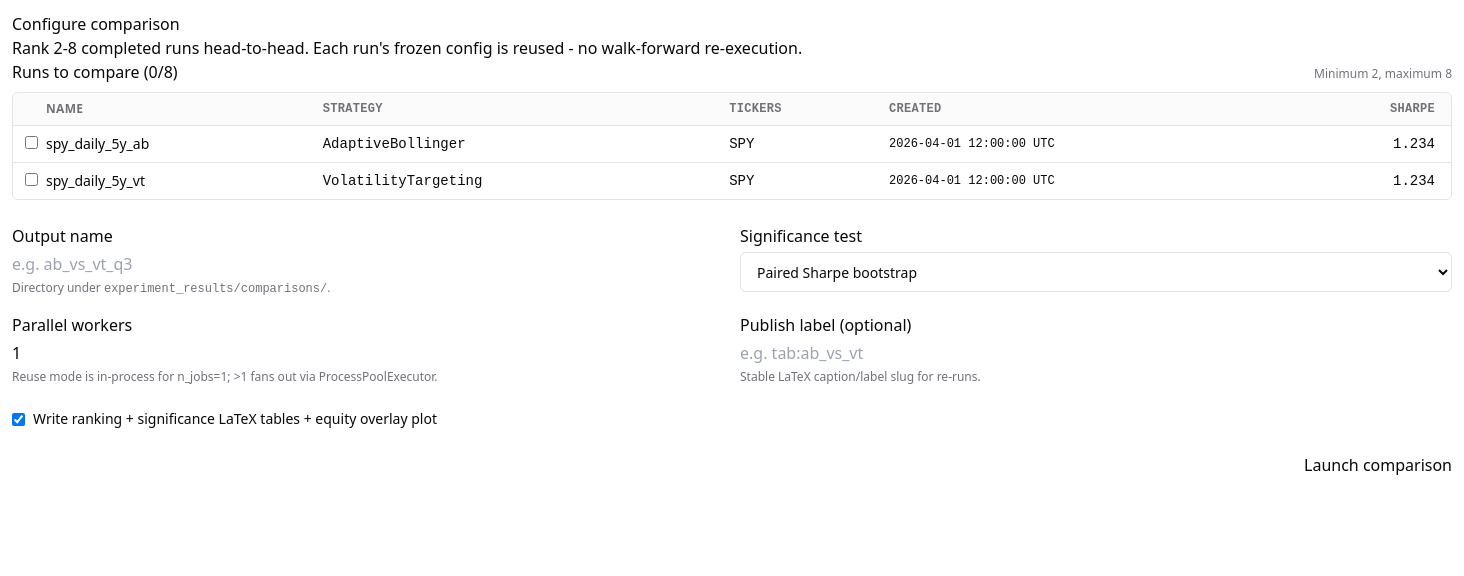
Test: ConfigureComparePage › surfaces backend 422 errors inline (e.g. ghost run id)
This screenshot has width=1464, height=576.
Check: the text "spy_daily_5y_ab" is shown, box top-left (45, 126), bottom-right (322, 162)
Click the checkbox named "Select spy_daily_5y_ab": (32, 142) top-left (25, 136), bottom-right (38, 149)
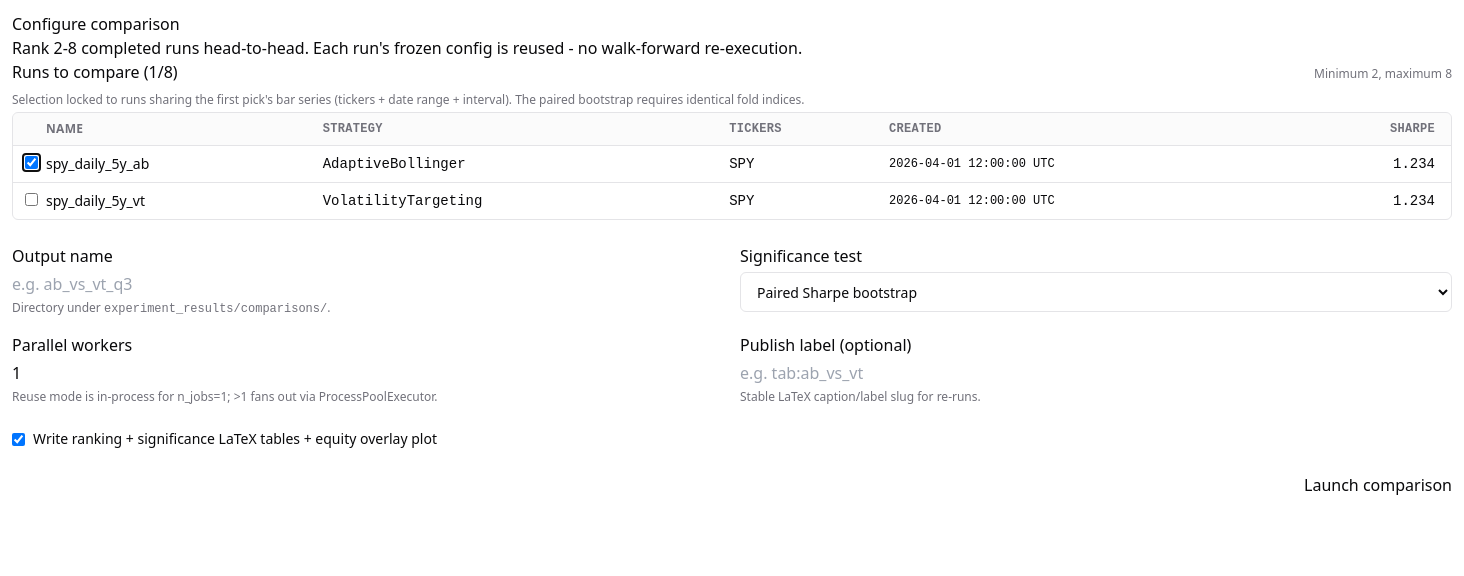
Click the checkbox named "Select spy_daily_5y_vt": (32, 200) top-left (25, 193), bottom-right (38, 206)
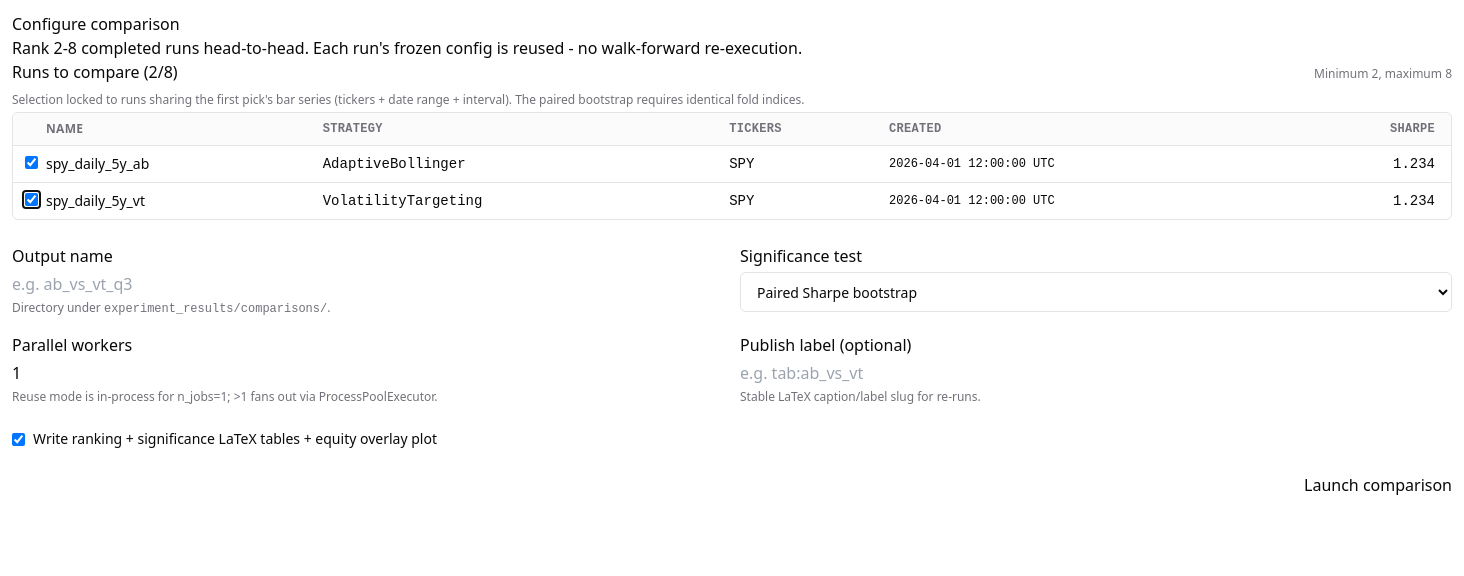
In the field labelled "Output name": (368, 284) top-left (12, 272), bottom-right (724, 296), type "my_compare"
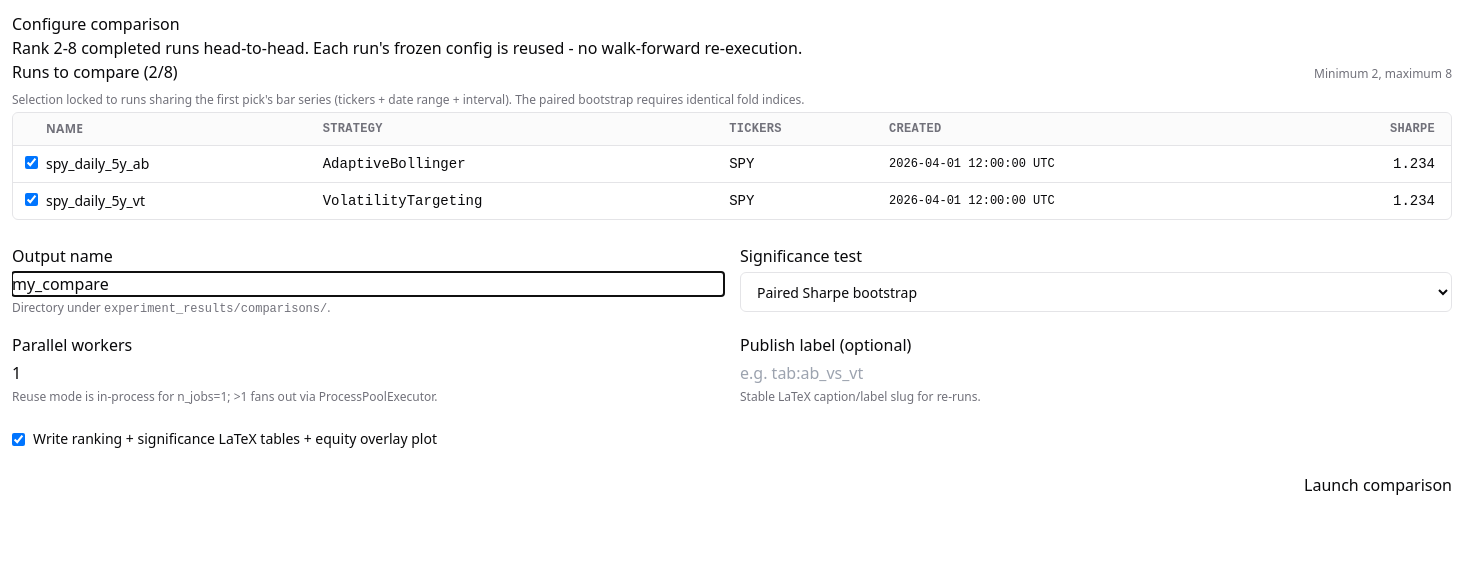
Click the button "Launch comparison": (1378, 485) top-left (1304, 473), bottom-right (1452, 497)
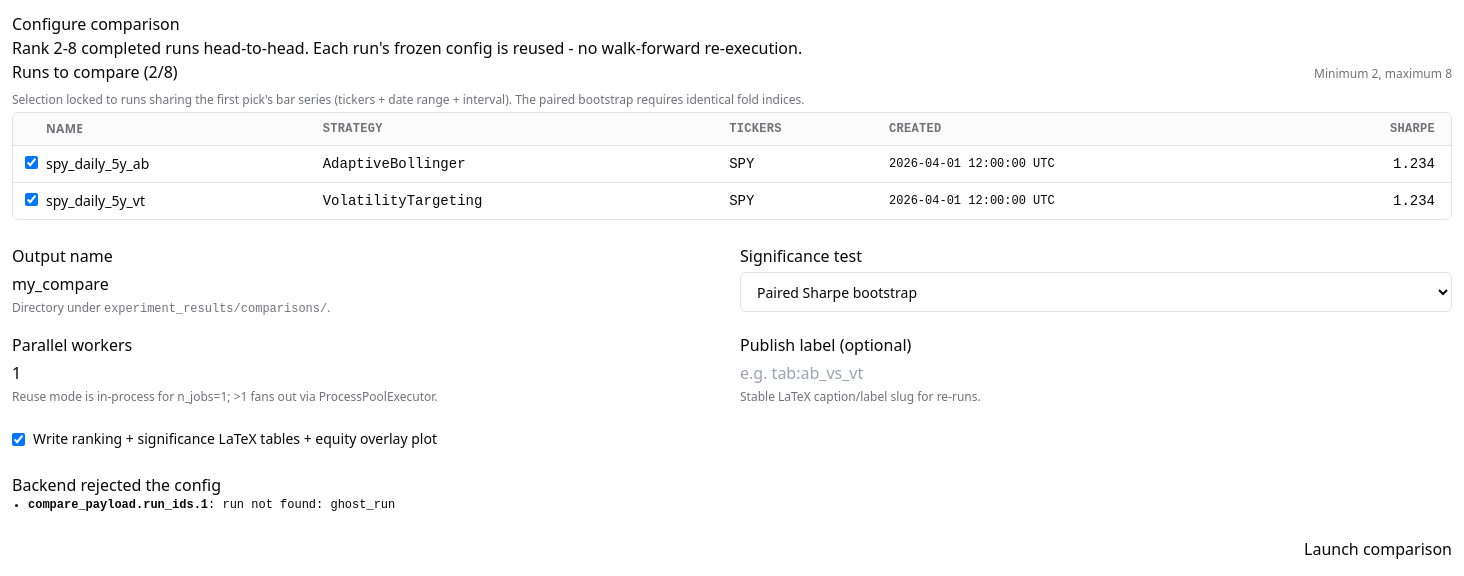
Check: the list item "compare_payload.run_ids.1: run not found: ghost_run" is shown, box top-left (28, 498), bottom-right (395, 512)
